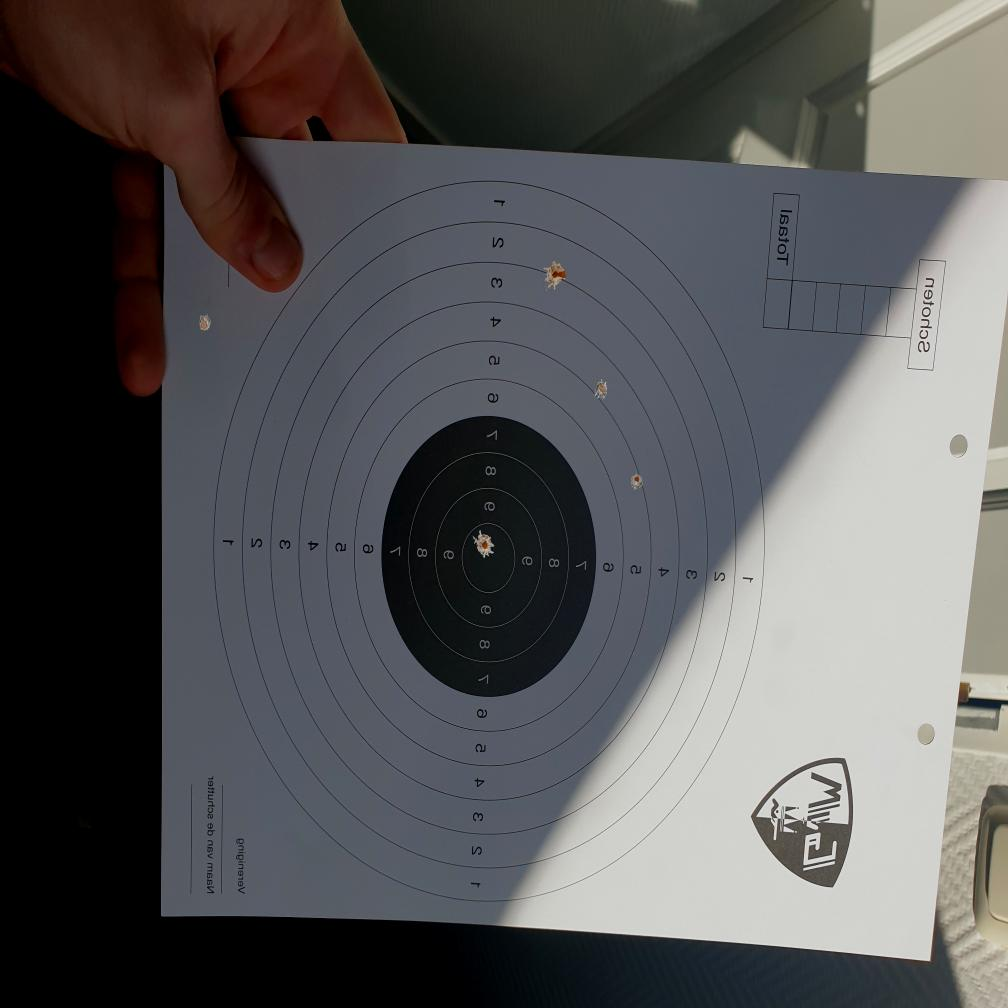0: (198, 311, 212, 331)
10: (472, 529, 495, 559)
3: (544, 260, 566, 290)
5: (380, 415, 597, 699), (593, 379, 608, 399), (630, 473, 644, 491)
Target: (214, 175, 763, 903)
